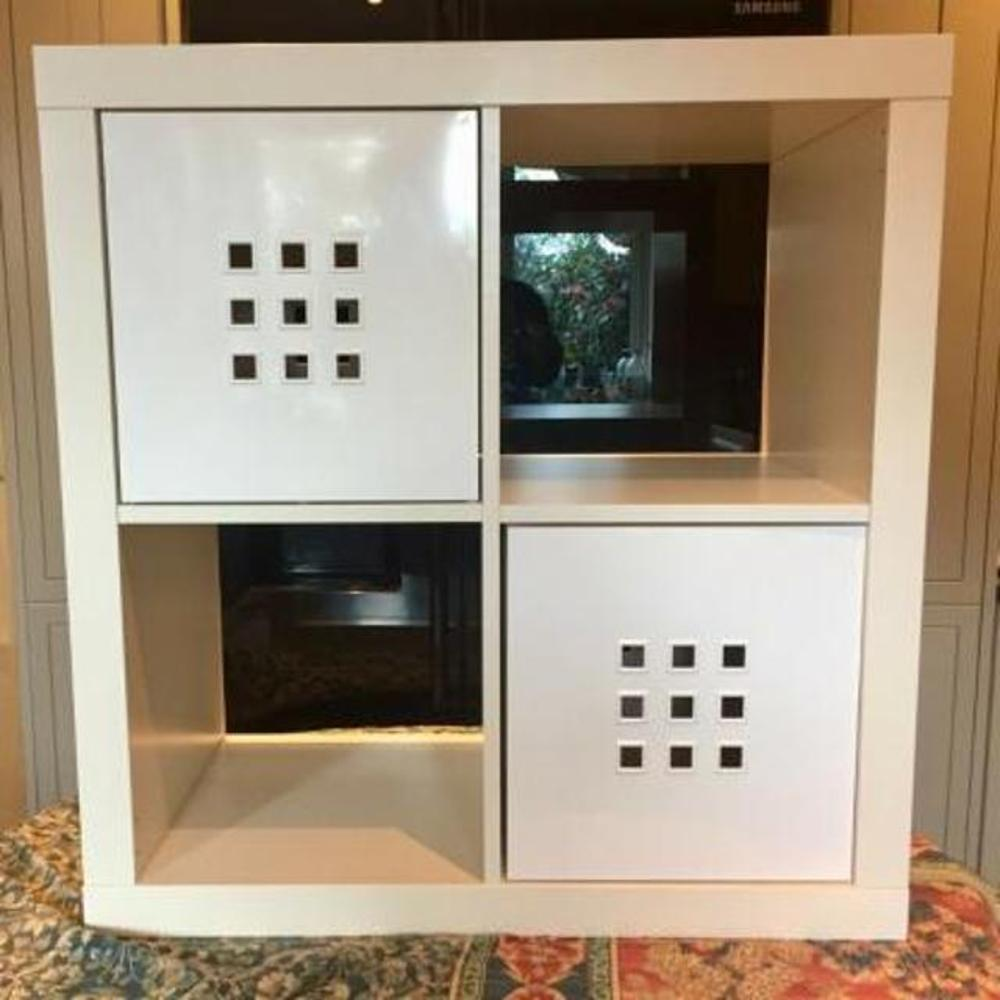lamp: (25, 31, 954, 943)
